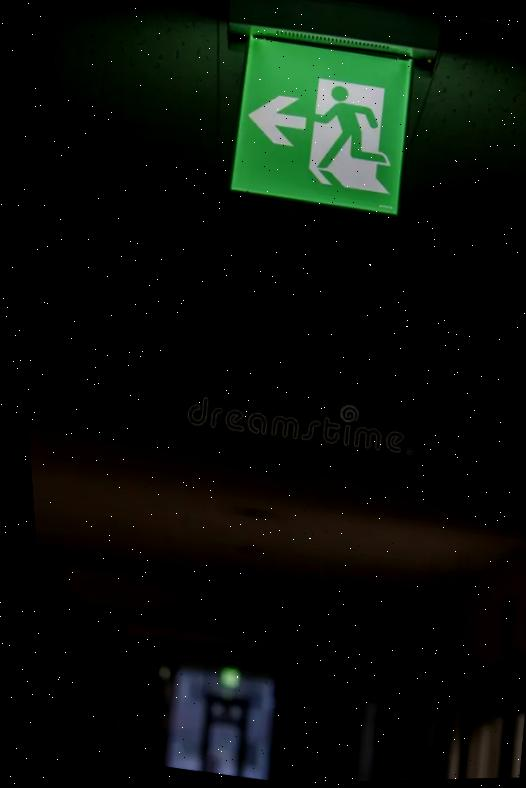emergency_exit: (227, 24, 428, 217)
